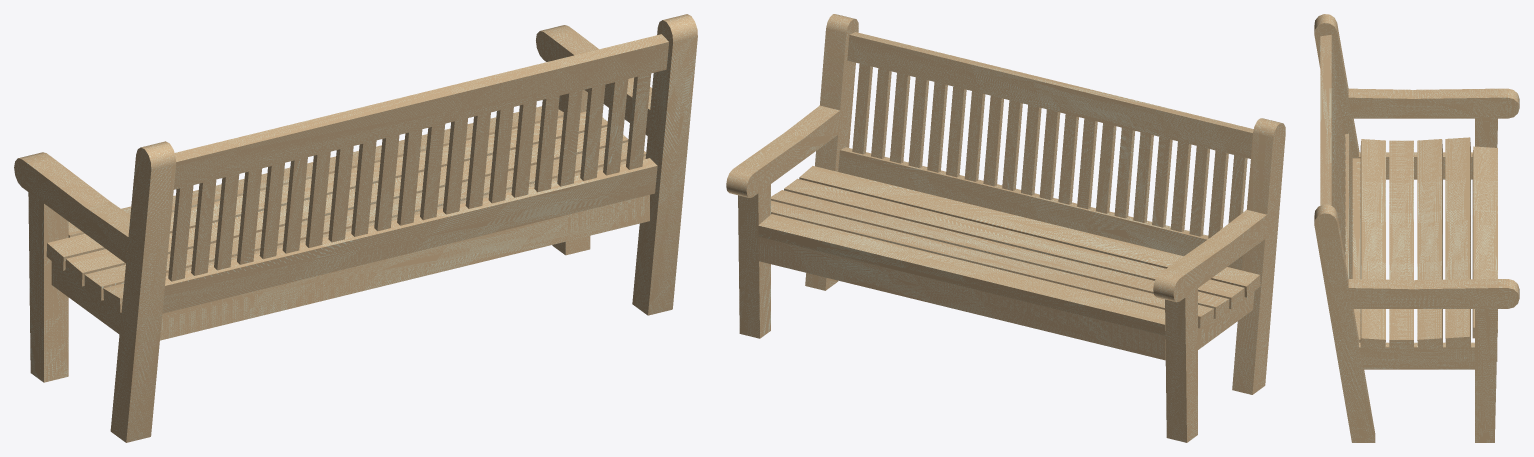
3 views of the same model, side by side, from view 1: azimuth 30°, elevation 25°; view 2: azimuth 150°, elevation 25°; view 3: azimuth 270°, elevation 25° (orthographic). The views are drawn at different scales.
Parts seen in each view (by area): view 1: mesh2_mesh2-geometry, mesh3_mesh3-geometry, mesh4_mesh4-geometry, mesh5_mesh5-geometry, mesh1_mesh1-geometry, mesh7_mesh7-geometry; view 2: mesh2_mesh2-geometry, mesh3_mesh3-geometry, mesh1_mesh1-geometry, mesh5_mesh5-geometry, mesh4_mesh4-geometry, mesh7_mesh7-geometry; view 3: mesh1_mesh1-geometry, mesh5_mesh5-geometry, mesh2_mesh2-geometry, mesh4_mesh4-geometry, mesh7_mesh7-geometry, mesh3_mesh3-geometry.
Boxes of the visible parts, <box> form: mesh2_mesh2-geometry: <box>68,34,668,340</box>; mesh3_mesh3-geometry: <box>168,73,651,281</box>; mesh4_mesh4-geometry: <box>110,14,697,442</box>; mesh5_mesh5-geometry: <box>14,25,652,382</box>; mesh1_mesh1-geometry: <box>46,111,646,312</box>; mesh7_mesh7-geometry: <box>51,261,121,334</box>; mesh2_mesh2-geometry: <box>758,32,1253,360</box>; mesh3_mesh3-geometry: <box>852,63,1247,238</box>; mesh1_mesh1-geometry: <box>771,166,1260,328</box>; mesh5_mesh5-geometry: <box>726,105,1266,442</box>; mesh4_mesh4-geometry: <box>805,14,1285,394</box>; mesh7_mesh7-geometry: <box>1198,291,1254,349</box>; mesh1_mesh1-geometry: <box>1360,137,1470,350</box>; mesh5_mesh5-geometry: <box>1348,88,1519,442</box>; mesh2_mesh2-geometry: <box>1320,34,1497,361</box>; mesh4_mesh4-geometry: <box>1314,14,1375,442</box>; mesh7_mesh7-geometry: <box>1359,152,1474,369</box>; mesh3_mesh3-geometry: <box>1335,81,1345,260</box>.
Bounding box in the file's own units: 0.8227 × 0.4418 × 0.3578.
